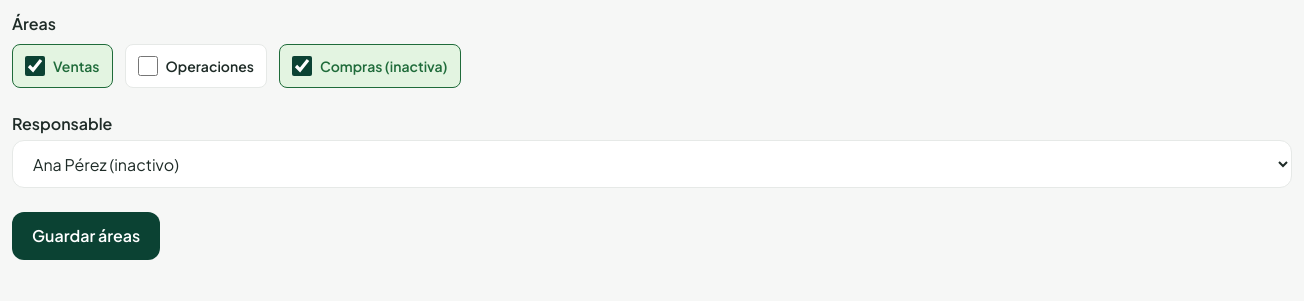
Test: ChangeAreasForm (spec 003, R3 a R5; plan 003, 6.2) › spec 008: responsable inactivo y áreas inactivas › E21: sin áreas activas no pide candidatos, conserva a la responsable y lo explica
Check: the element "Áreas" is shown, box [12, 13, 460, 88]
Check: the dropdown labelled "Responsable" is enabled, box [12, 140, 1292, 188]
Click the checkbox labelled "Ventas": click(35, 66) [25, 56, 45, 76]
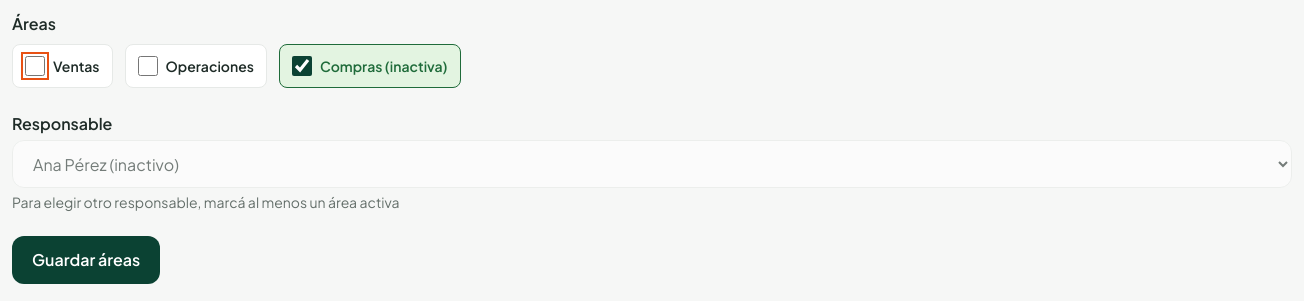
Check: the dropdown labelled "Responsable" shows "Ana Pérez (inactivo)", box [12, 140, 1292, 188]
Check: the text "Para elegir otro responsable, marcá al menos un área activa" is shown, box [12, 193, 400, 211]
